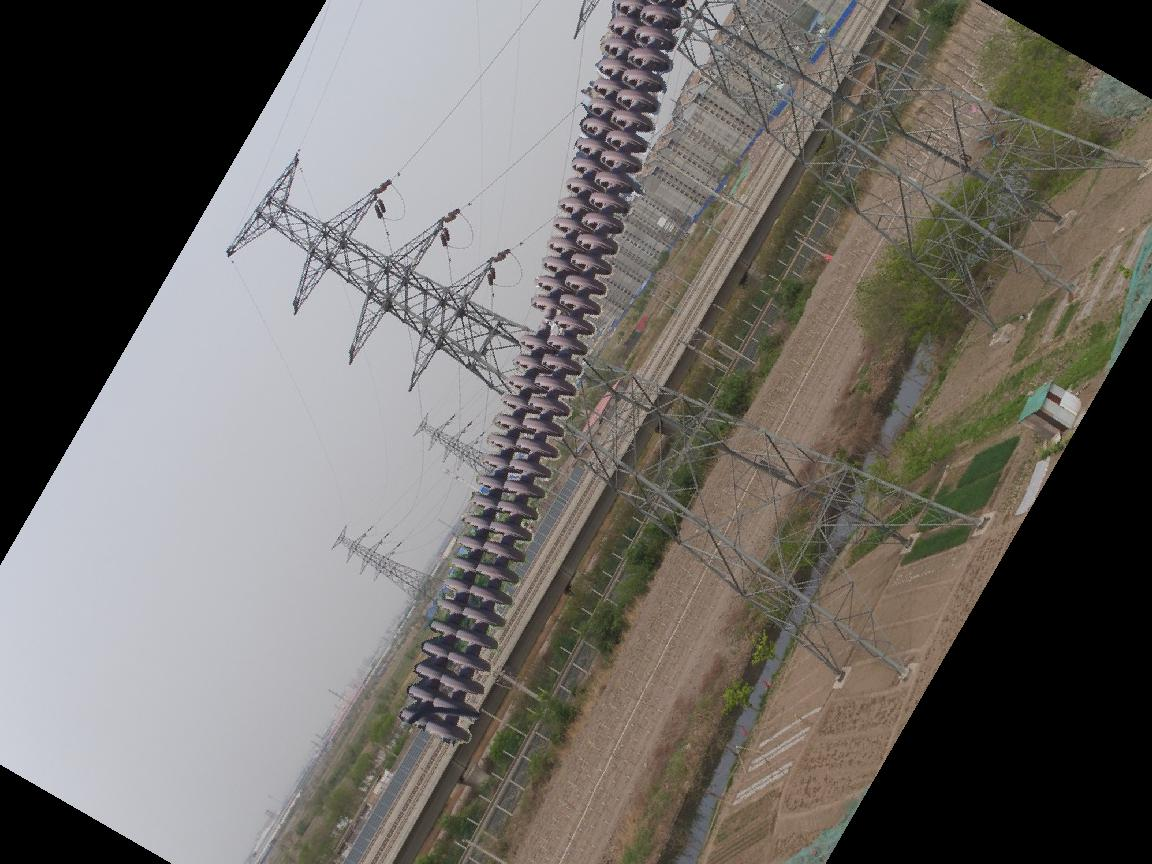insulator: (398, 1, 689, 750)
insulator_stringdrop: (514, 292, 571, 356)
